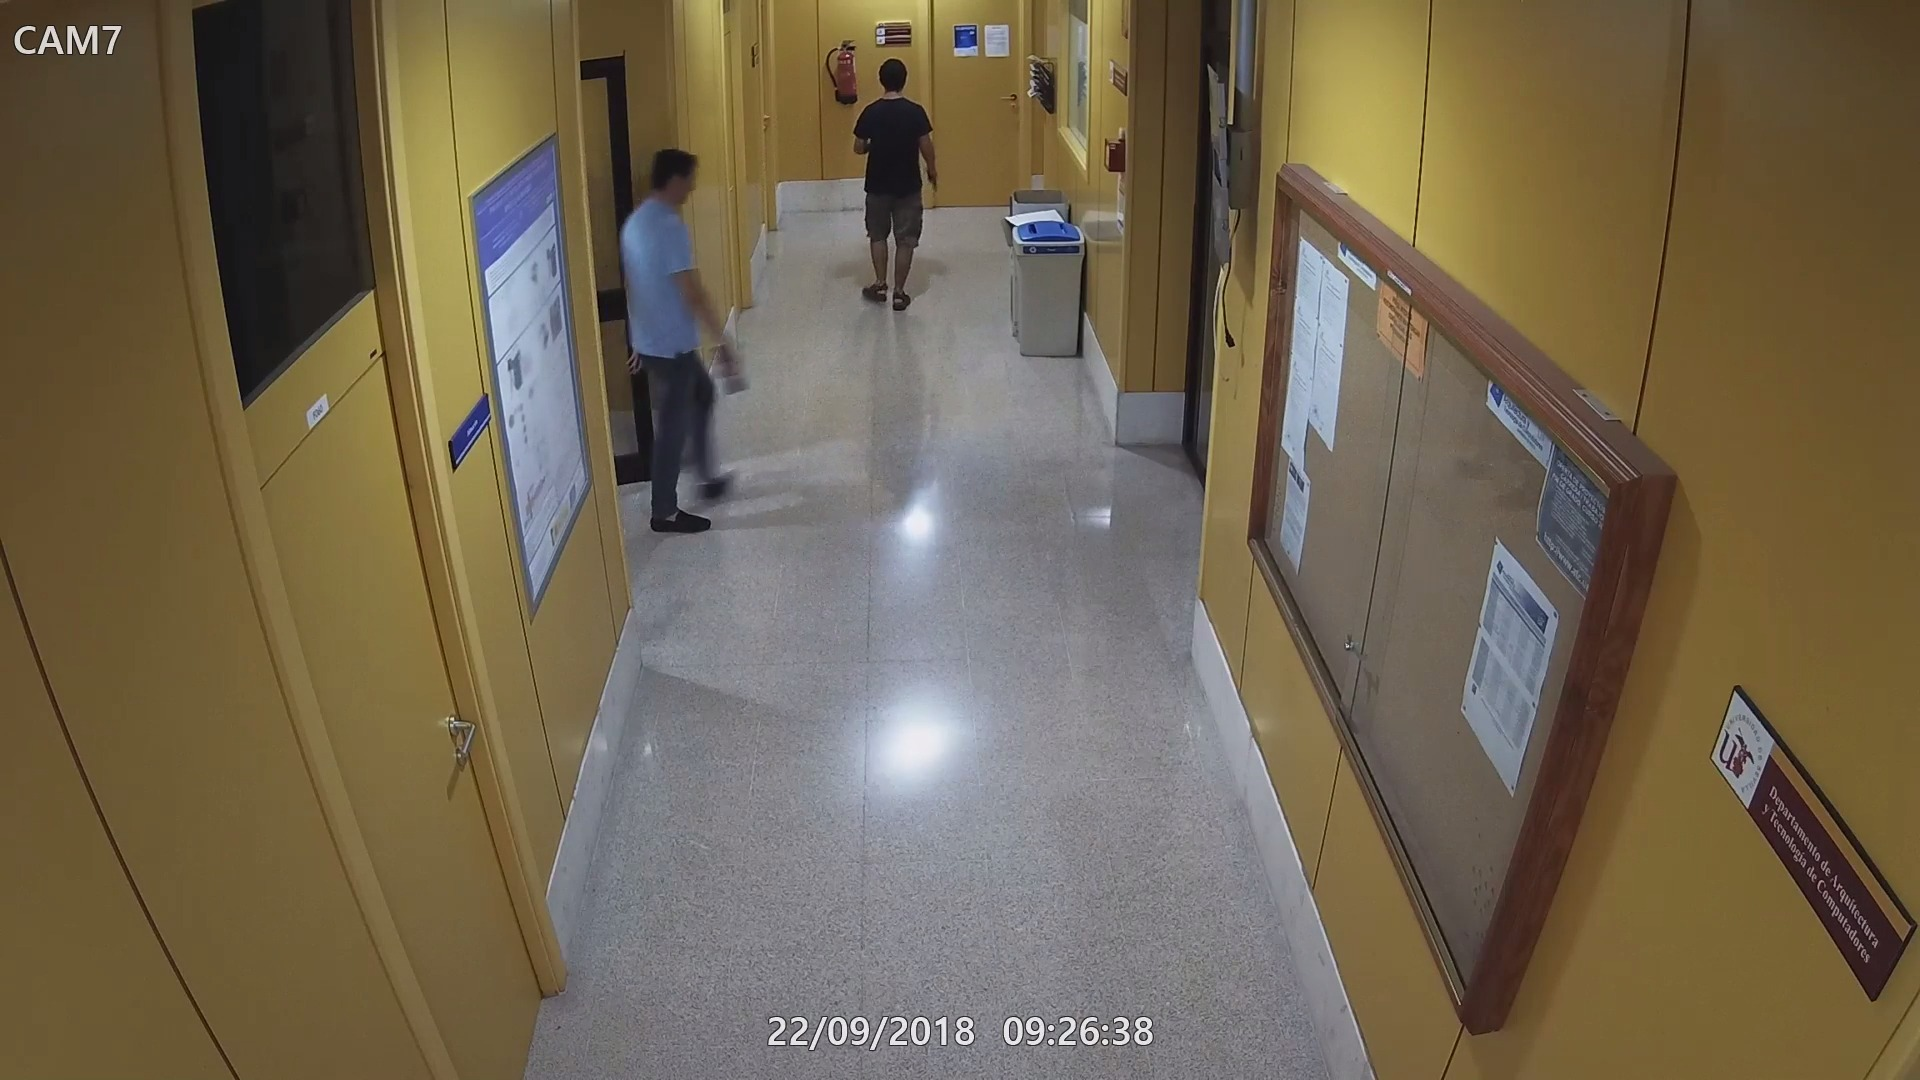Handgun: (920, 161, 945, 194)
